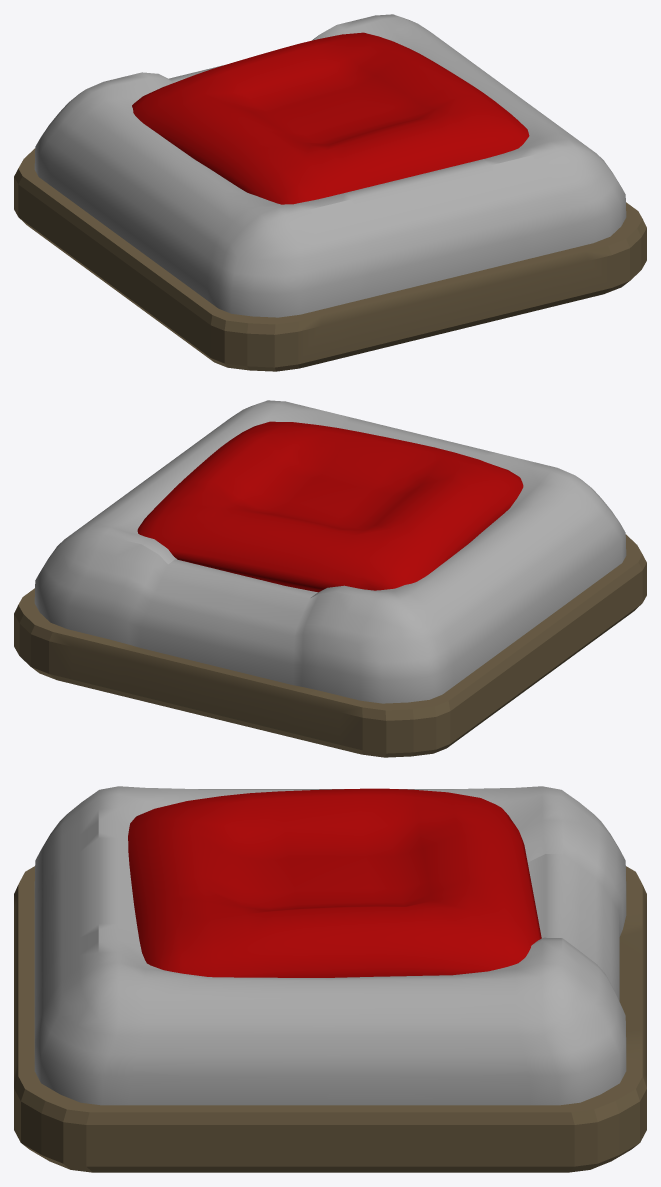
The model's file is Asset_dogbed.fbx.
The picture shows the model from 3 angles, top to bottom: view 1: azimuth 30°, elevation 25°; view 2: azimuth 150°, elevation 25°; view 3: azimuth 270°, elevation 25°; orthographic projection. The views are drawn at different scales.
Visible parts, largest first — view 1: pCube45; view 2: pCube45; view 3: pCube45.
Part boxes in pixels (left/top/right/bottom): pCube45: left=14, top=14, right=646, bottom=371; pCube45: left=14, top=400, right=646, bottom=757; pCube45: left=14, top=786, right=646, bottom=1172.
Size of the model in its own units: 8.68 by 2.88 by 8.68.
